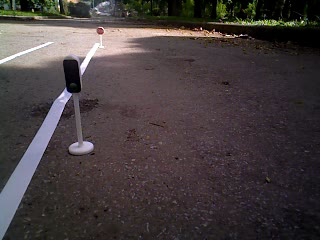Blue: (62, 55, 87, 95)
Stop: (94, 24, 107, 39)
